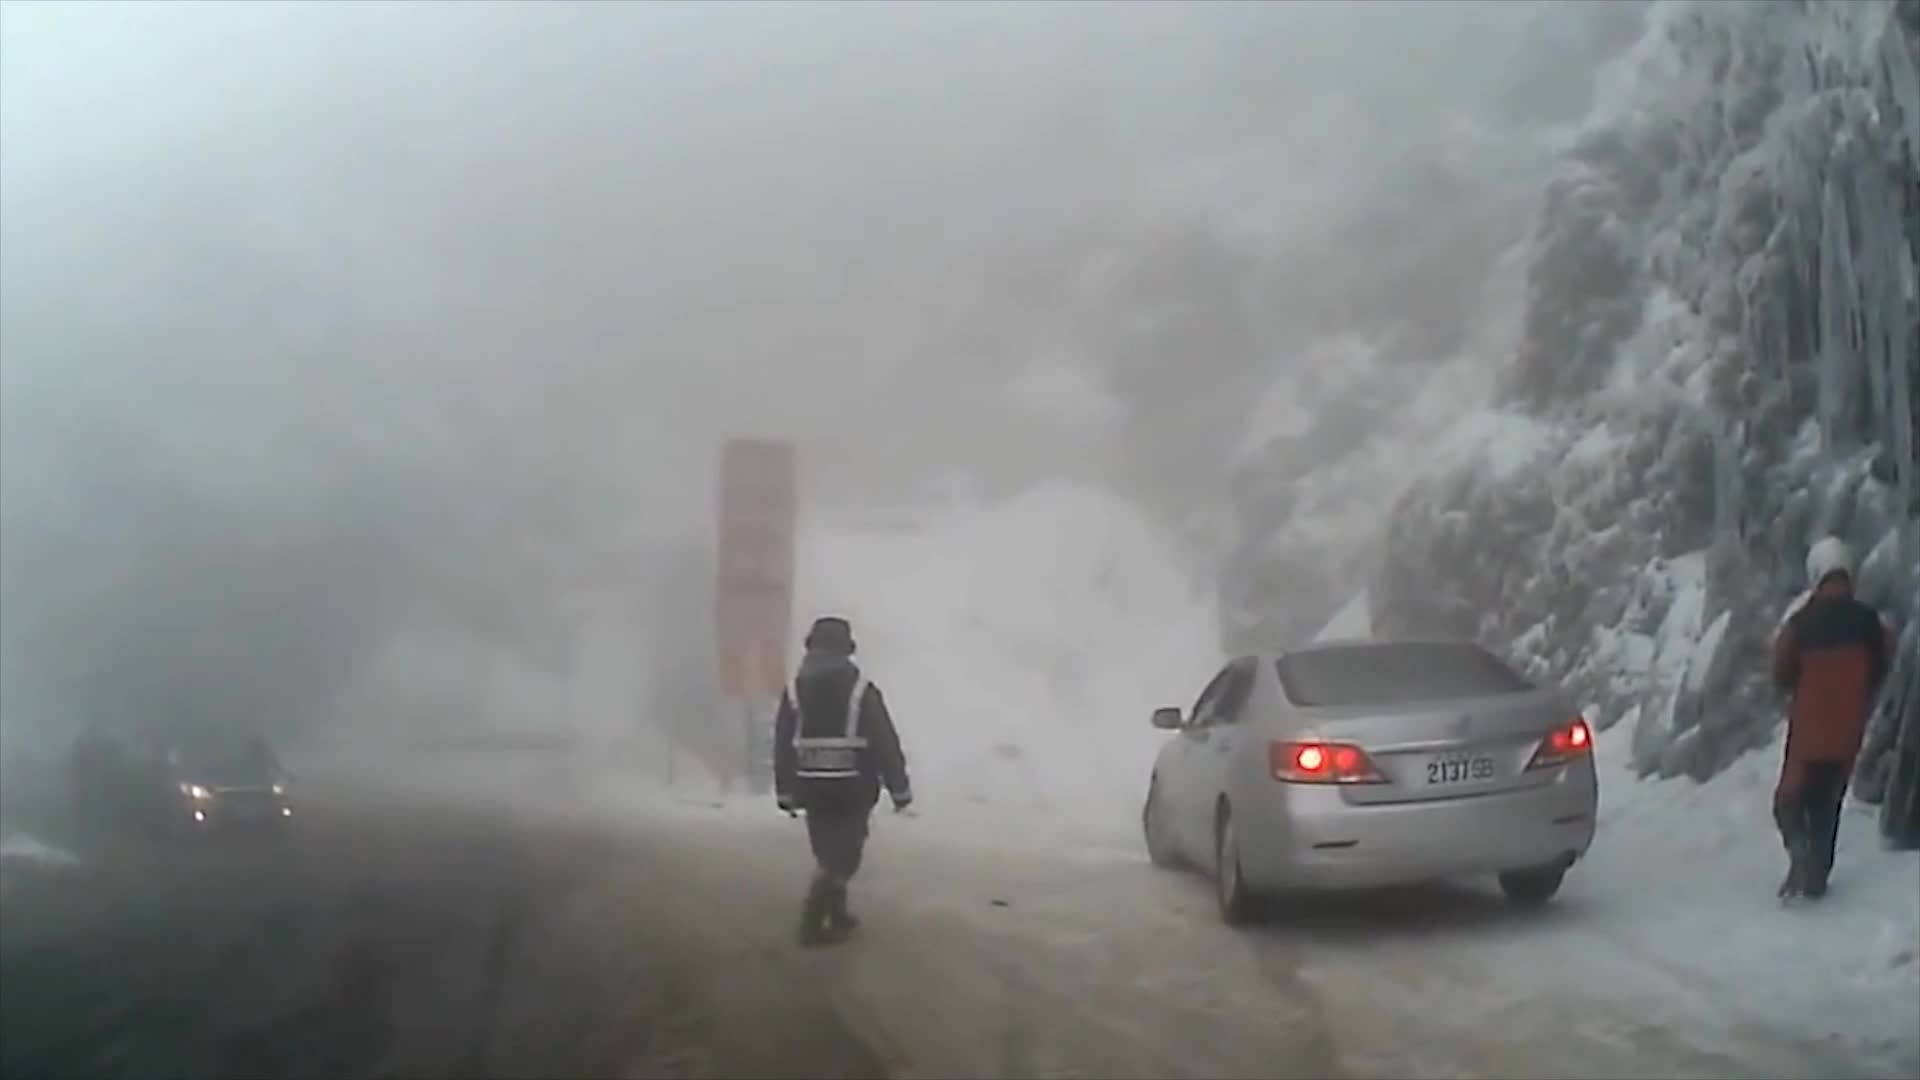pedestrian: (769, 617, 921, 948), (1756, 534, 1879, 911)
vehicle: (1134, 631, 1593, 922)
